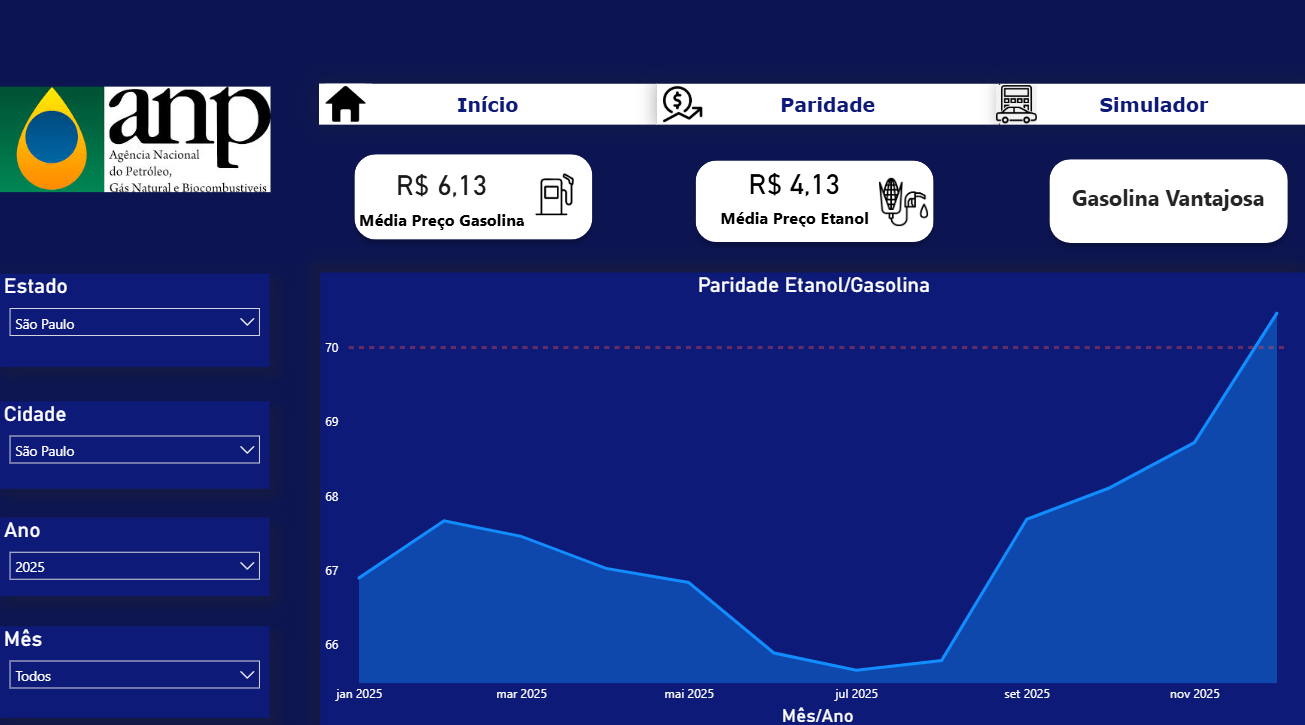

This screenshot's page, from the dashboard's own definition file:
{"tool":"powerbi","page":{"name":"Paridade ","canvas":[1280,720],"ordinal":1},"visuals":[{"type":"shape","box":[0,0,1278.9,720.4],"z":0},{"type":"stackedAreaChart","title":"Paridade Etanol/Gasolina","fields":{"Category":["Gasolina/Etanol.ano_mes"],"Y":["Avg(Gasolina/Etanol.razao_paridade_pct)"]},"box":[314.2,271.7,966,448.7],"z":1000},{"type":"slicer","title":"Estado","fields":{"Values":["Gasolina/Etanol.sigla_uf_nome"]},"box":[0,272.2,265.1,91.2],"z":2000},{"type":"slicer","title":"Cidade","fields":{"Values":["Gasolina/Etanol.id_municipio_nome"]},"box":[0,397.7,265.1,85.5],"z":3000},{"type":"slicer","title":"Ano","fields":{"Values":["Gasolina/Etanol.Ano"]},"box":[0,511.7,265.1,77],"z":4000},{"type":"slicer","title":"Mês","fields":{"Values":["Gasolina/Etanol.Mes Nome"]},"box":[0,617.2,265.1,89.8],"z":5000},{"type":"shape","box":[338.7,146.7,250.7,101.5],"z":7000},{"type":"card","fields":{"Values":["Avg(Gasolina/Etanol.preco_gasolina)"]},"box":[338.7,156.5,189.5,78.3],"z":8000},{"type":"shape","box":[1018.9,151.3,251.1,99.9],"z":9000},{"type":"image","box":[512.4,162.6,62.4,64.8],"z":10000},{"type":"shape","box":[672.6,152.9,250.7,97.8],"z":11000},{"type":"card","fields":{"Values":["Avg(Gasolina/Etanol.preco_etanol)"]},"box":[687.4,156.9,182.5,75.5],"z":12000},{"type":"image","box":[860.9,174.9,47.7,55],"z":13000},{"type":"card","fields":{"Values":["Gasolina/Etanol.Status Atual"]},"box":[1037.4,161.2,214,77.1],"z":14000},{"type":"image","box":[0,88,265.4,106.4],"z":17000},{"type":"actionButton","box":[313,86.8,330.2,40.4],"z":18000},{"type":"actionButton","box":[643.2,86.8,335.1,40.4],"z":19000},{"type":"actionButton","box":[979.5,88,300.8,40.4],"z":20000},{"type":"image","box":[643.2,88,51.4,39.1],"z":21000},{"type":"image","box":[313,86.8,51.4,40.4],"z":21500},{"type":"image","box":[972.2,88,46.5,39.1],"z":22000}]}

Visuals, with their boxes in screenshot pixels (x1, y1, x2, y2), scaled from the page's 1280x720 canvas onto the 1305x725 screenshot:
shape: box=[0, 0, 1304, 724]
"Paridade Etanol/Gasolina" stackedAreaChart: box=[320, 274, 1304, 724]
"Estado" slicer: box=[0, 274, 270, 366]
"Cidade" slicer: box=[0, 400, 270, 487]
"Ano" slicer: box=[0, 515, 270, 593]
"Mês" slicer: box=[0, 621, 270, 712]
shape: box=[345, 148, 601, 250]
card - Avg(Gasolina/Etanol.preco_gasolina): box=[345, 158, 539, 236]
shape: box=[1039, 152, 1295, 253]
image: box=[522, 164, 586, 229]
shape: box=[686, 154, 941, 252]
card - Avg(Gasolina/Etanol.preco_etanol): box=[701, 158, 887, 234]
image: box=[878, 176, 926, 231]
card - Gasolina/Etanol.Status Atual: box=[1058, 162, 1276, 240]
image: box=[0, 89, 271, 196]
actionButton: box=[319, 87, 656, 128]
actionButton: box=[656, 87, 997, 128]
actionButton: box=[999, 89, 1304, 129]
image: box=[656, 89, 708, 128]
image: box=[319, 87, 372, 128]
image: box=[991, 89, 1039, 128]
